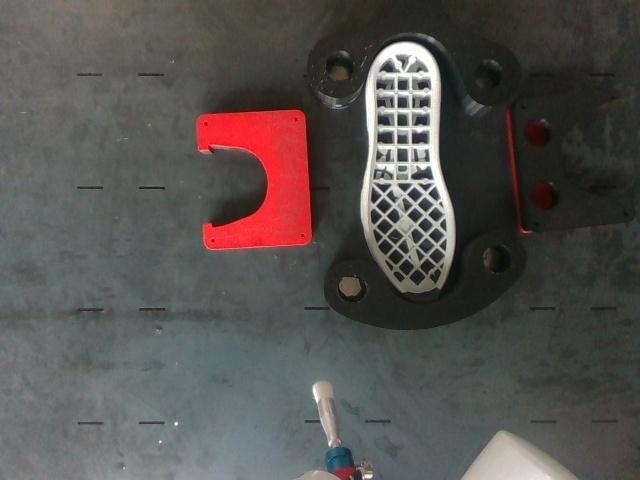shoes: (366, 43, 455, 301)
